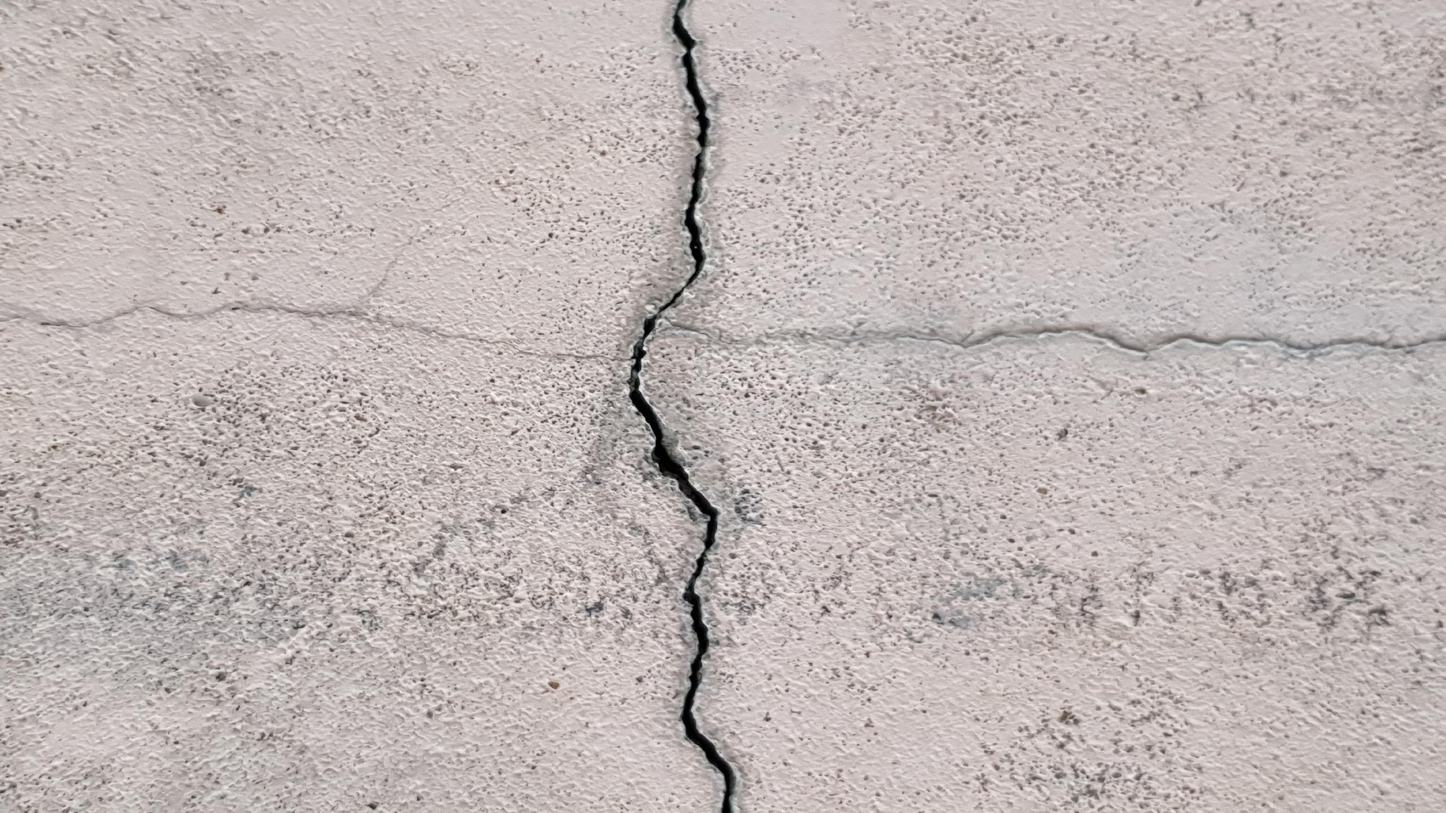crack: (625, 0, 737, 811)
